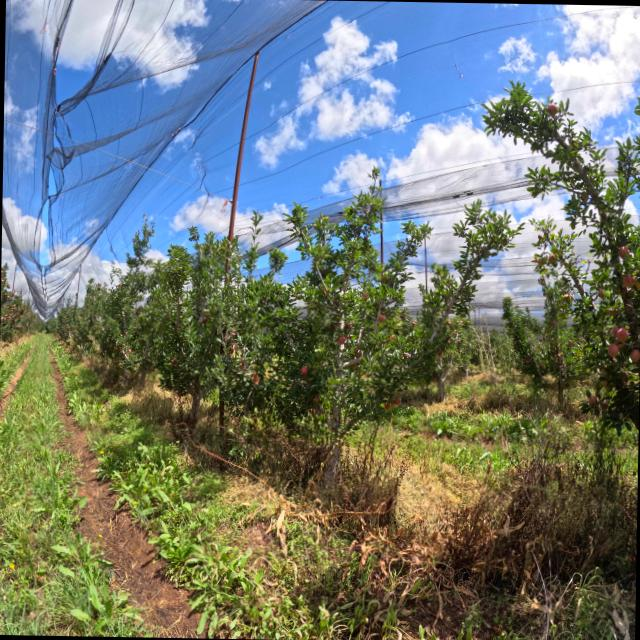-FireBlight-: (221, 326, 260, 388)
